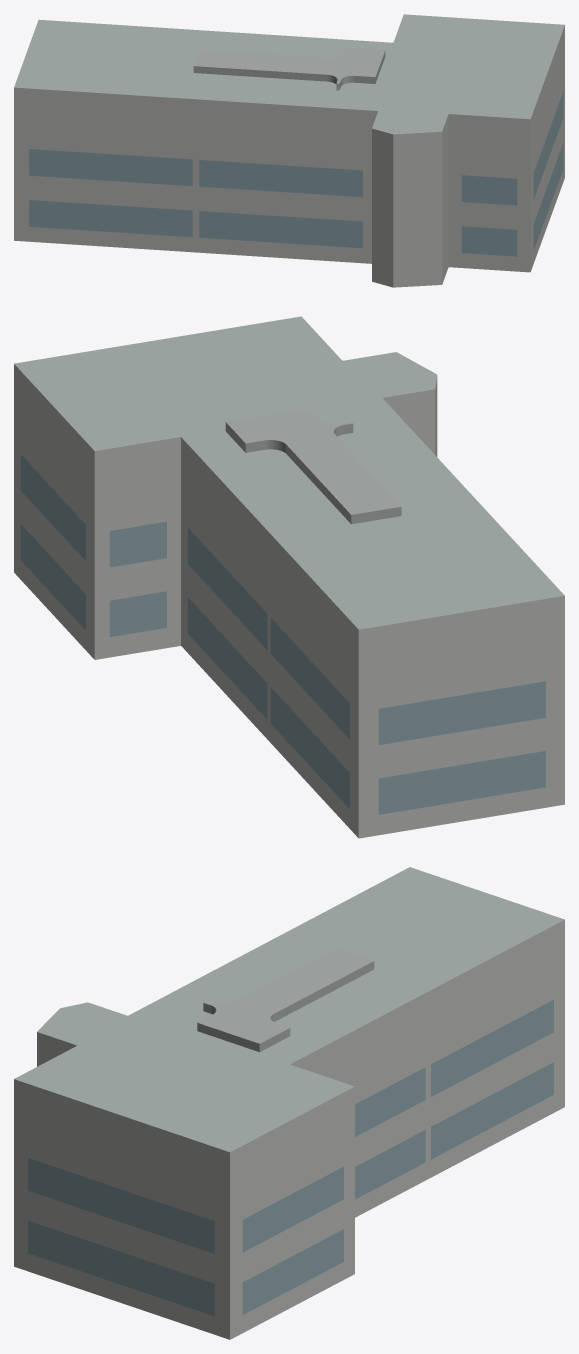
The model's file is landmark-161e5524-393a-4533-b35c-8e3b4dac91dc.glb.
3 renders of one model, top to bottom at view 1: azimuth 30°, elevation 25°; view 2: azimuth 150°, elevation 25°; view 3: azimuth 270°, elevation 25°, orthographic. The views are drawn at different scales.
Visible parts, largest first — view 1: landmark-161e5524-393a-4533-b35c-8e3b4dac91dc; view 2: landmark-161e5524-393a-4533-b35c-8e3b4dac91dc; view 3: landmark-161e5524-393a-4533-b35c-8e3b4dac91dc.
Part boxes in pixels (box(x1,y1,x2,y2)): landmark-161e5524-393a-4533-b35c-8e3b4dac91dc: box(14, 14, 564, 287); landmark-161e5524-393a-4533-b35c-8e3b4dac91dc: box(14, 316, 564, 838); landmark-161e5524-393a-4533-b35c-8e3b4dac91dc: box(14, 867, 564, 1339).
Bounding box in the file's own units: 29.85 × 9.56 × 24.36.
